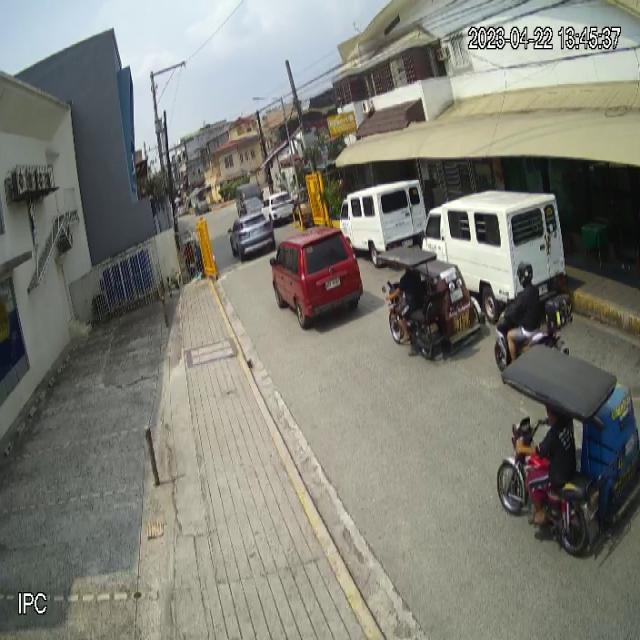Car: (269, 228, 364, 329)
Motorcycle: (494, 293, 573, 372)
Tricycle: (496, 342, 640, 559), (374, 246, 486, 361)
Van: (339, 177, 428, 269)
